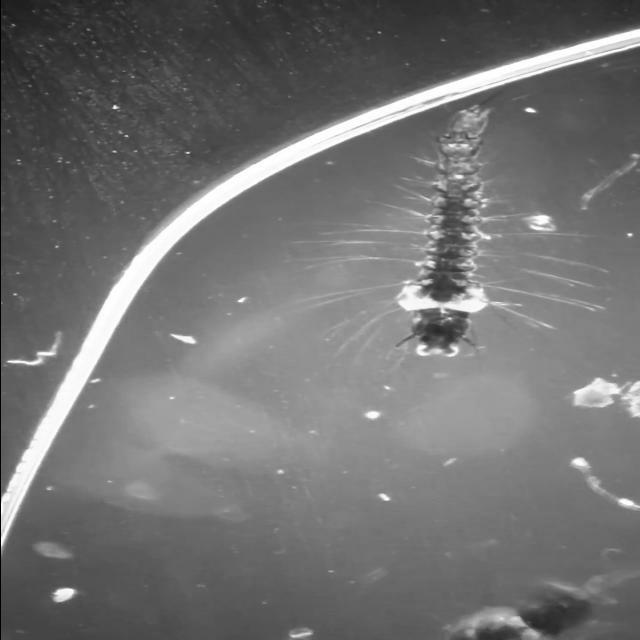larvas: (408, 115, 492, 352), (433, 578, 598, 640)
